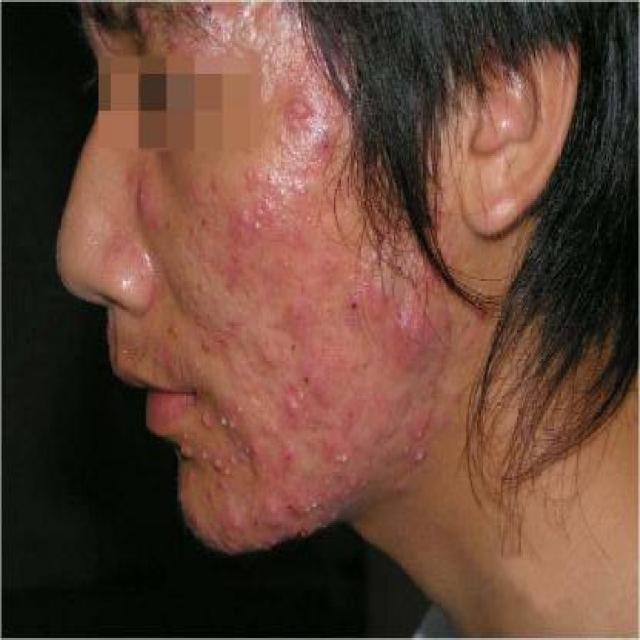Acne: (377, 287, 445, 367), (277, 80, 323, 137), (172, 435, 200, 466), (336, 443, 352, 472), (214, 408, 234, 431), (195, 410, 214, 434), (408, 447, 429, 468), (209, 453, 229, 472), (294, 388, 311, 404), (309, 492, 322, 509), (198, 443, 210, 460), (240, 439, 252, 455), (251, 219, 263, 234), (301, 504, 310, 518)
Blackheads: (338, 287, 372, 326), (191, 197, 218, 240), (284, 359, 324, 388), (204, 320, 238, 353), (152, 203, 180, 240), (314, 133, 337, 160)
